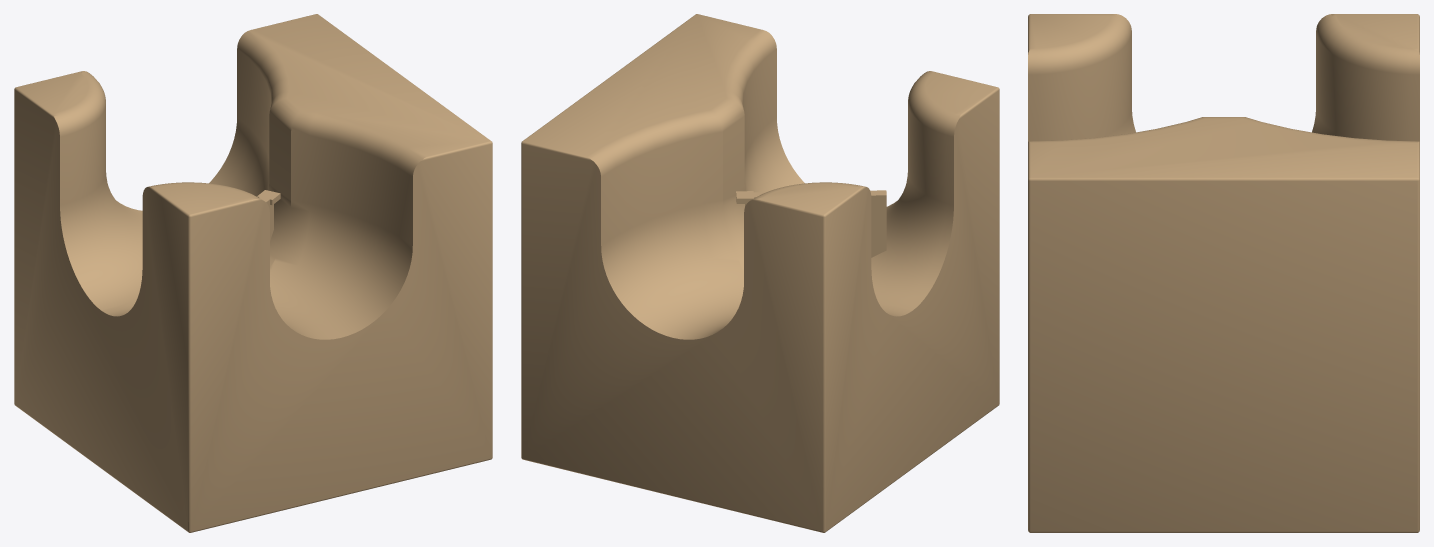
Rendered from mech_splitter_l2.glb.
3 views of the same model, side by side, from view 1: azimuth 30°, elevation 25°; view 2: azimuth 150°, elevation 25°; view 3: azimuth 270°, elevation 25° (orthographic). The views are drawn at different scales.
Visible parts, largest first — view 1: mech_splitter_l2_lod0; view 2: mech_splitter_l2_lod0, anim_flap_lod0; view 3: mech_splitter_l2_lod0.
Boxes of the visible parts, box(x1,y1,x2,y2) form: mech_splitter_l2_lod0: box(14, 14, 492, 532); mech_splitter_l2_lod0: box(521, 14, 999, 532); anim_flap_lod0: box(736, 190, 886, 257); mech_splitter_l2_lod0: box(1028, 14, 1419, 532).
Size of what is drawn, in the model's own units: 0.0596 by 0.0596 by 0.0596.
